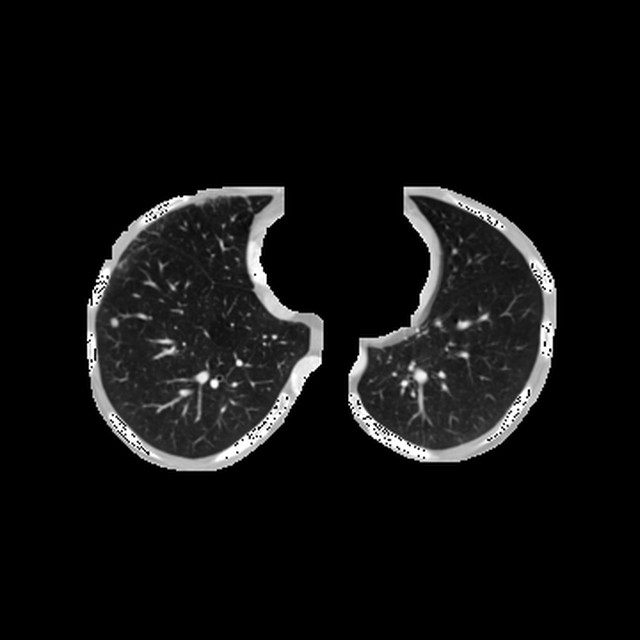PN: (108, 316, 119, 327)
